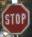Stop sign: (0, 0, 31, 36)
